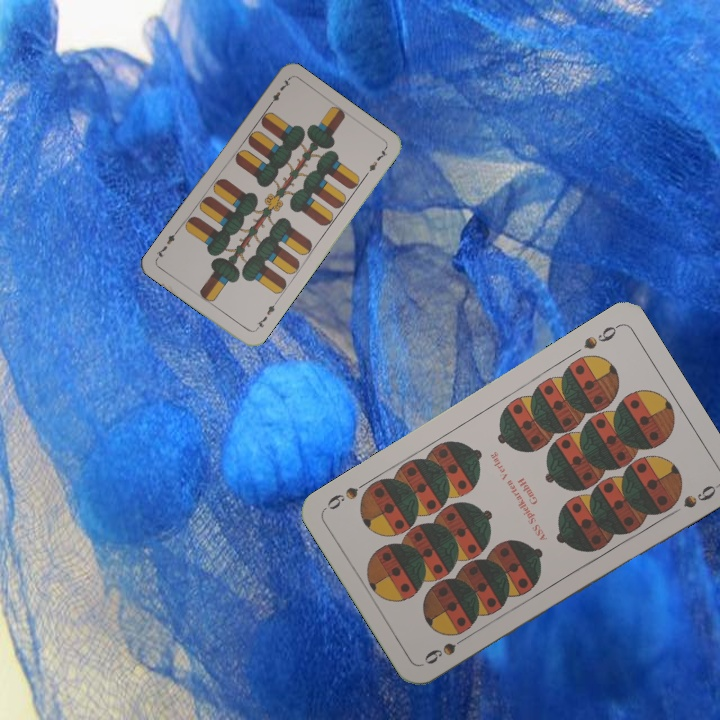E7: (264, 75, 293, 111), (251, 298, 279, 334)
S9: (420, 630, 473, 667), (579, 320, 622, 352)
